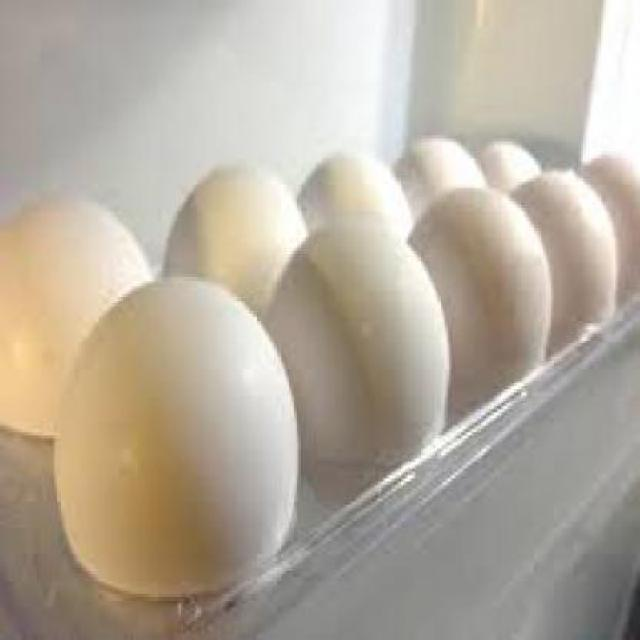BIODEGRADABLE: (52, 270, 299, 601), (271, 221, 447, 479), (0, 194, 158, 439), (410, 188, 548, 400), (156, 154, 312, 300), (296, 148, 413, 287), (520, 162, 618, 323), (393, 128, 487, 238), (585, 152, 638, 293), (475, 138, 536, 211)
